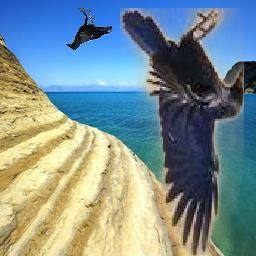Crow: (120, 8, 244, 256), (66, 8, 113, 50)
